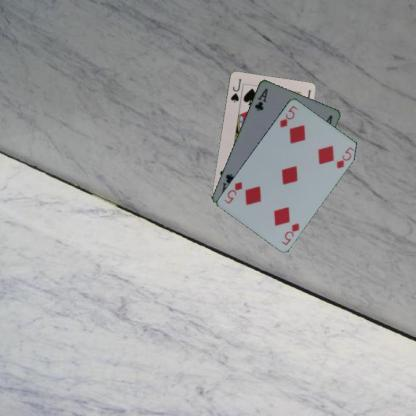5d: (277, 103, 299, 129), (279, 220, 301, 246)
Ac: (252, 86, 269, 112)
Js: (228, 76, 242, 104)
